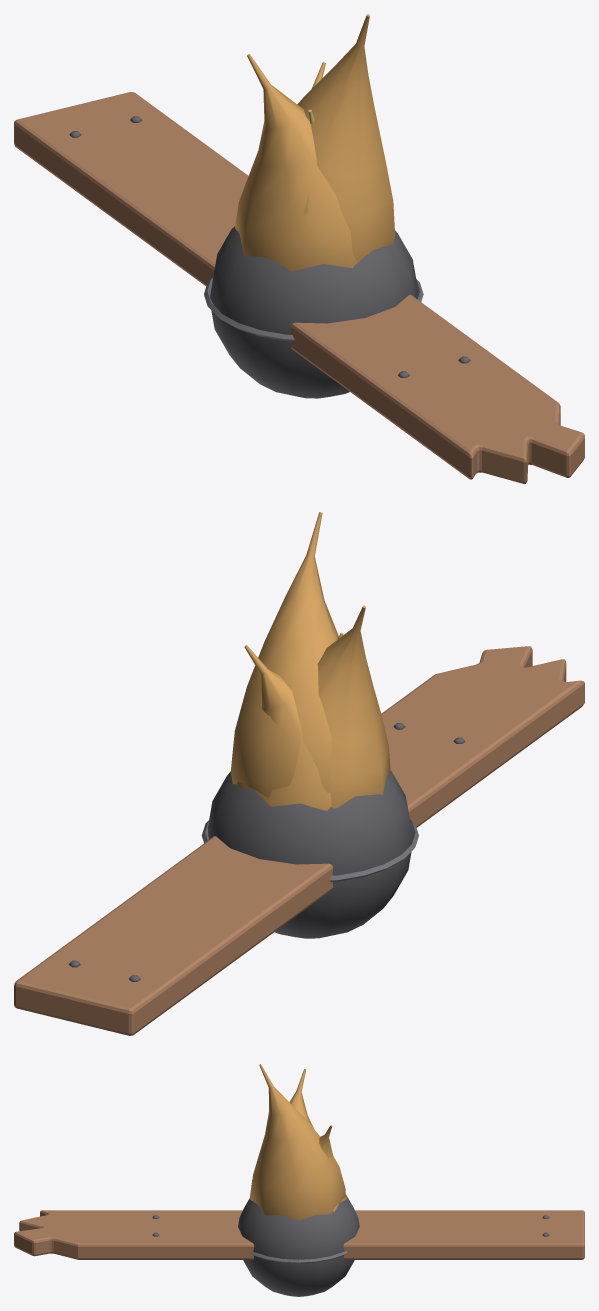
The picture shows the model from 3 angles, top to bottom: view 1: azimuth 30°, elevation 25°; view 2: azimuth 150°, elevation 25°; view 3: azimuth 270°, elevation 25°; orthographic projection. The views are drawn at different scales.
Parts seen in each view (by area): view 1: wreck_plank, flame, cannonball; view 2: wreck_plank, flame, cannonball; view 3: wreck_plank, flame, cannonball.
Part boxes in pixels (bbox=[...]): wreck_plank: bbox=[14, 92, 584, 483]; flame: bbox=[235, 14, 395, 271]; cannonball: bbox=[204, 226, 423, 398]; wreck_plank: bbox=[14, 646, 584, 1035]; flame: bbox=[230, 512, 390, 810]; cannonball: bbox=[201, 770, 418, 938]; wreck_plank: bbox=[14, 1210, 584, 1259]; flame: bbox=[249, 1064, 347, 1220]; cannonball: bbox=[238, 1194, 359, 1296].
Size of the model in its own units: 0.5019 by 0.9917 by 2.2.
